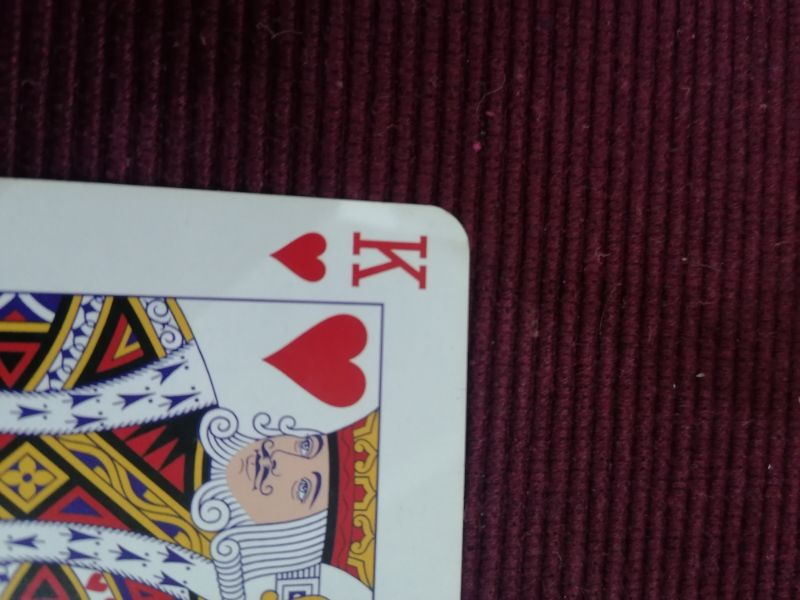Kh: (265, 219, 438, 295)
